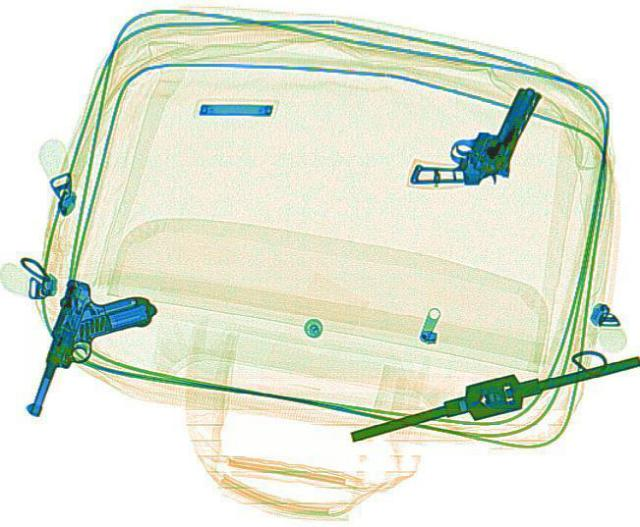Gun: (22, 278, 158, 431), (405, 66, 547, 206)
